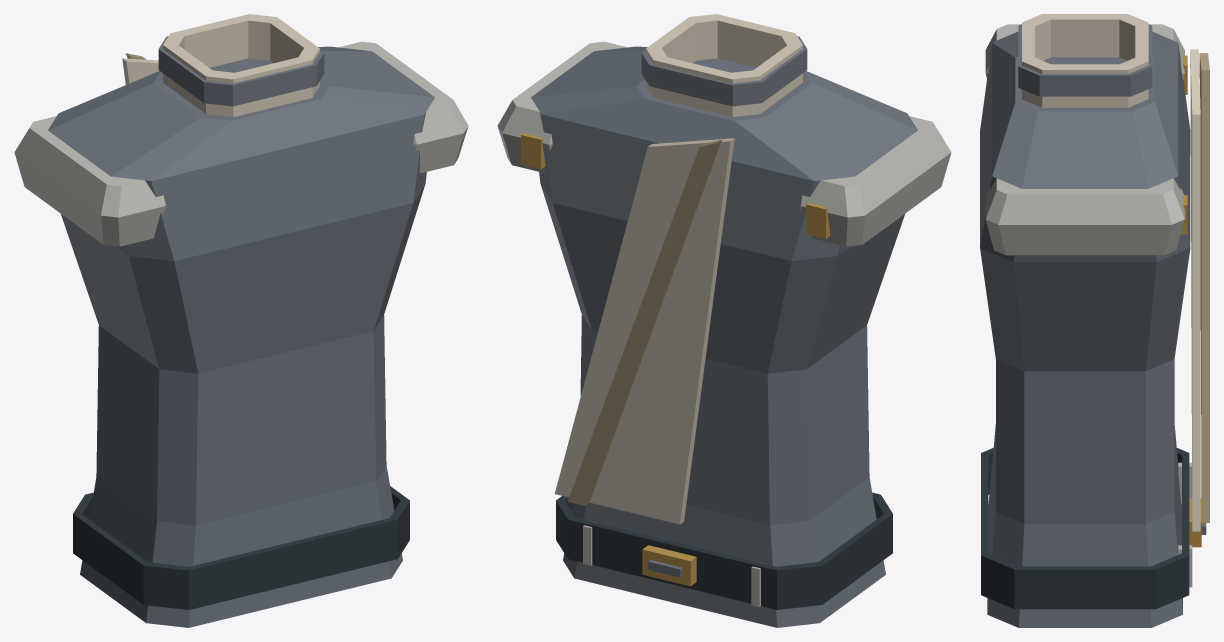
3 views of the same model, side by side, from view 1: azimuth 30°, elevation 25°; view 2: azimuth 150°, elevation 25°; view 3: azimuth 270°, elevation 25° (orthographic).
Visible parts, largest first — view 1: 现有程序躯干 · 同用途配色; view 2: 现有程序躯干 · 同用途配色; view 3: 现有程序躯干 · 同用途配色.
Boxes of the visible parts, x1,y1,x2,y2 form: 现有程序躯干 · 同用途配色: [14, 14, 468, 627]; 现有程序躯干 · 同用途配色: [497, 14, 951, 627]; 现有程序躯干 · 同用途配色: [980, 14, 1209, 627].
Size of the model in its own units: 0.458 by 0.62 by 0.247.
Materials: 6 (6 with a texture image).
